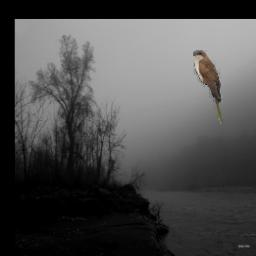Cuckoo: (193, 50, 224, 124)
